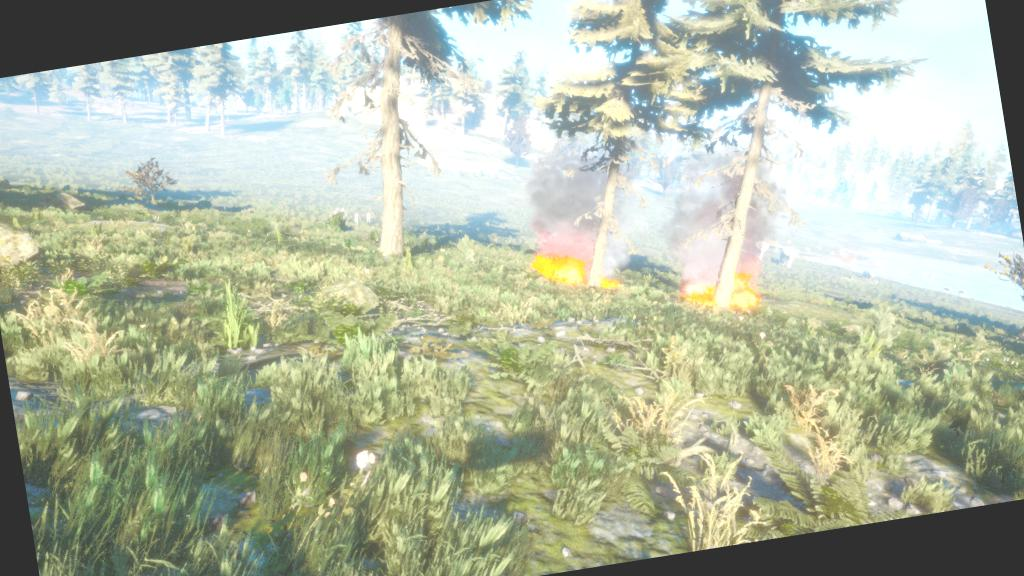Fire: (525, 228, 626, 306), (680, 252, 765, 326)
elephant: (774, 242, 808, 272), (746, 238, 776, 262), (450, 161, 465, 180), (486, 166, 503, 180), (471, 162, 484, 179)
human: (361, 208, 374, 225), (350, 210, 362, 227)
smoke: (648, 135, 806, 280), (519, 128, 660, 251)
